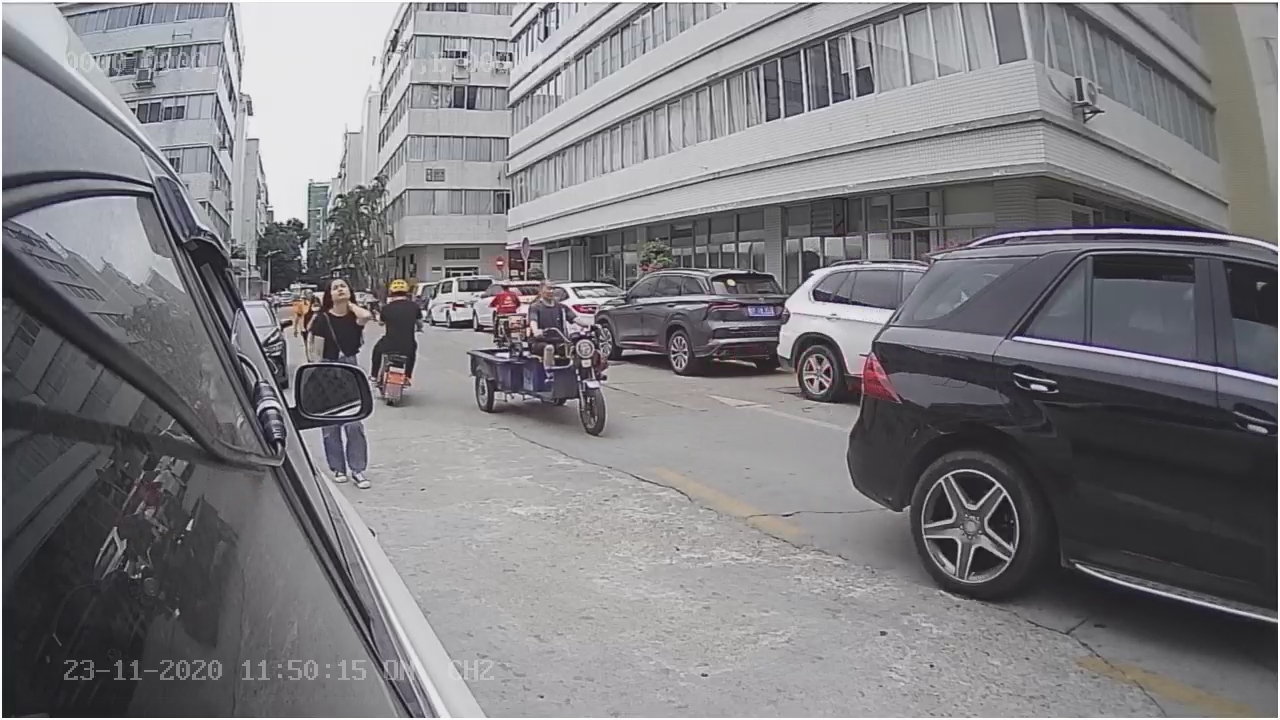person: (298, 266, 381, 360)
